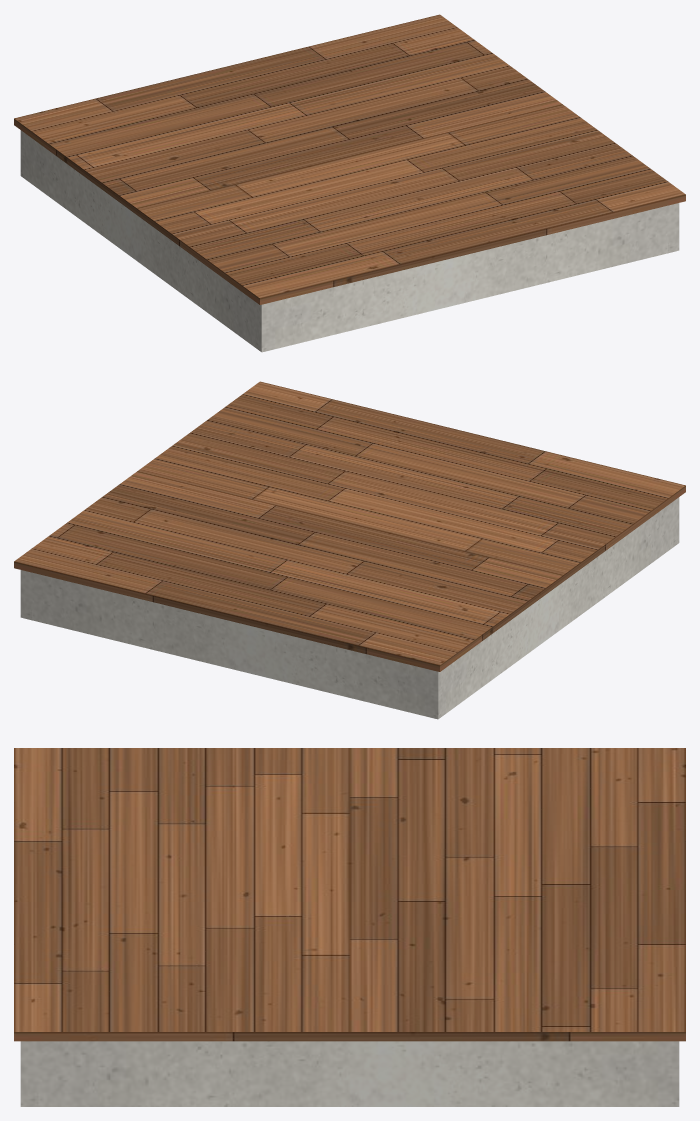
Rendered from floor_tile.glb.
3 renders of one model, top to bottom at view 1: azimuth 30°, elevation 25°; view 2: azimuth 150°, elevation 25°; view 3: azimuth 270°, elevation 25°, orthographic. The views are drawn at different scales.
Parts seen in each view (by area): view 1: floor_tile_floor, floor_tile_plaster; view 2: floor_tile_floor, floor_tile_plaster; view 3: floor_tile_floor, floor_tile_plaster.
Boxes of the visible parts, bbox=[...] form: floor_tile_floor: bbox=[14, 14, 685, 304]; floor_tile_plaster: bbox=[20, 130, 679, 352]; floor_tile_floor: bbox=[14, 381, 685, 671]; floor_tile_plaster: bbox=[20, 497, 679, 719]; floor_tile_floor: bbox=[14, 748, 685, 1041]; floor_tile_plaster: bbox=[20, 1041, 679, 1106].
Size of the model in its own units: 2 by 0.255 by 2.
Materials: 2 (2 with a texture image).
